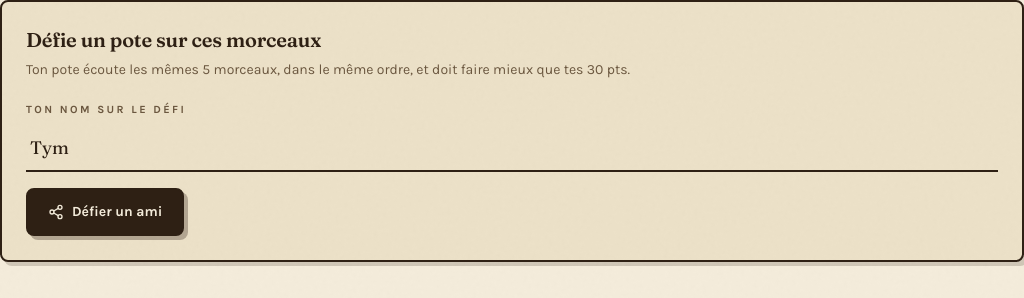
Scenario: ChallengeInvite › copie refusee (iPhone) : le lien reste affiche et le bouton dit Copier, pas Copie
What coordinates should you click on to do the following:
click the button "Défier un ami"
I would click on:
 (105, 212)
Its box is 26,188 -> 184,236.
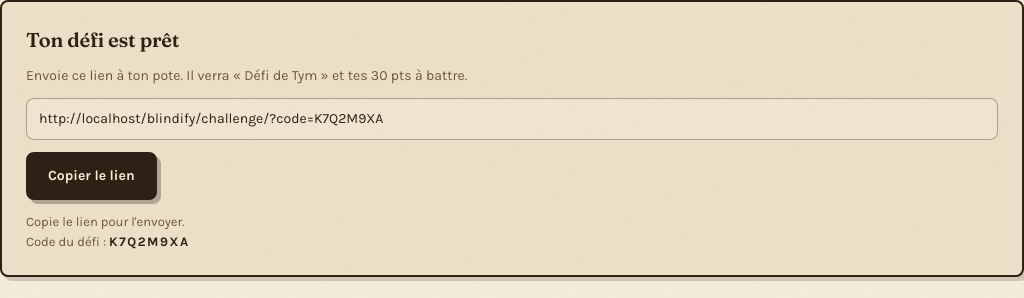
Expected: the button "Copier le lien" is shown, 26,152 -> 157,200
Expected: the text "K7Q2M9XA" is shown, 109,234 -> 190,248
